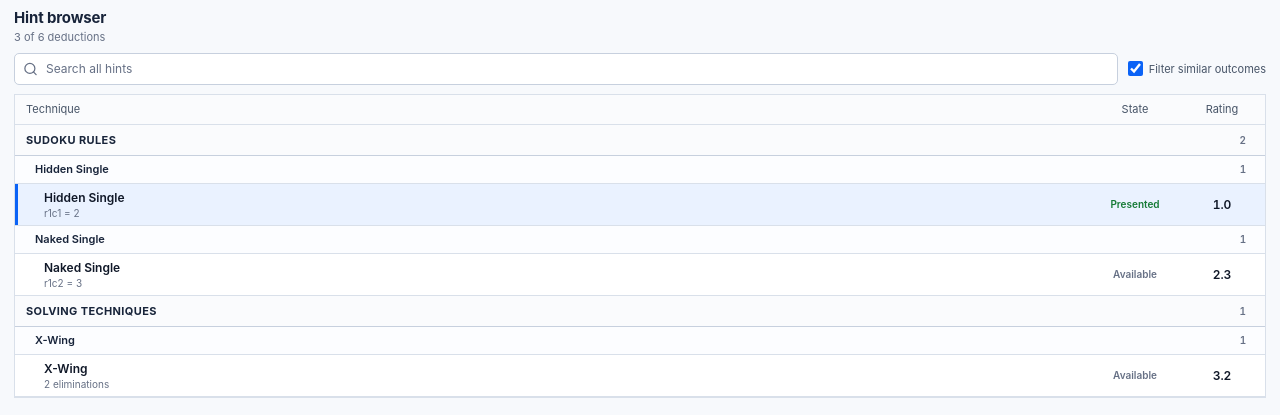
Test: HintBrowser › searches summaries and asks the controller to materialize the first visible hint
Type "X-Wing" into the search field labelled "Search all hints" at (566, 68), box left=14, top=52, right=1118, bottom=84
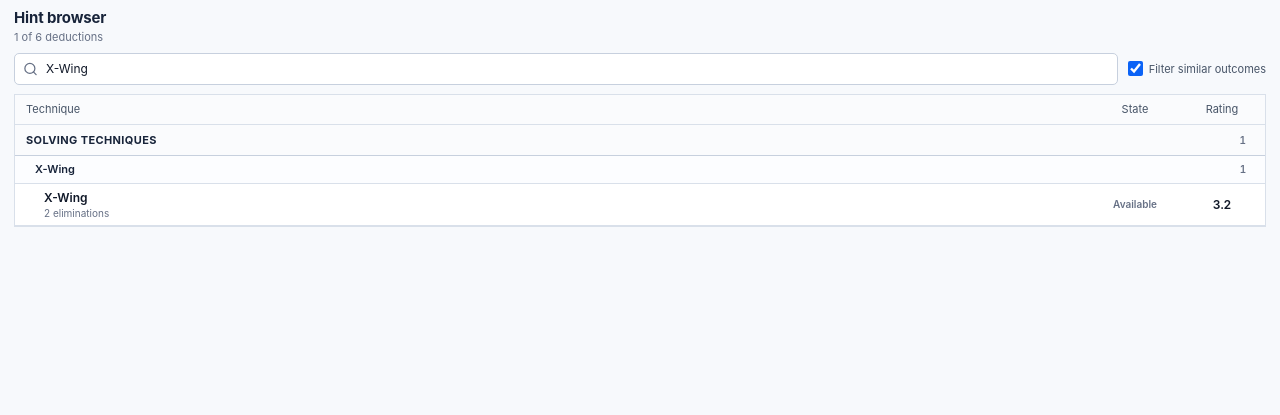
Now the text "1 of 6 deductions" is shown, box left=14, top=30, right=106, bottom=44
Now the text "Sudoku Rules" is gone
